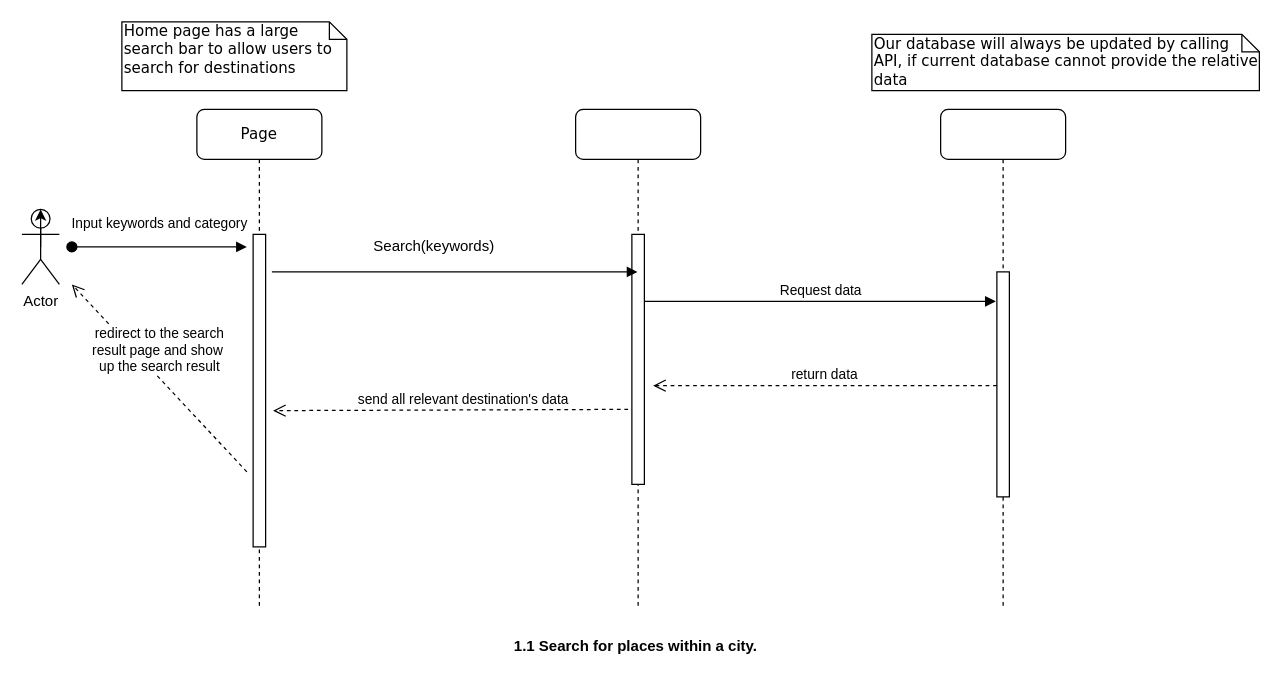
Some shapes in this 1281 by 681 pixel diagram are drawn without their labels. The box of each missing label's shape, as (x1, y1, x2, y2) in pixels:
Back End: (574, 108, 701, 609)
Database: (939, 108, 1066, 609)
